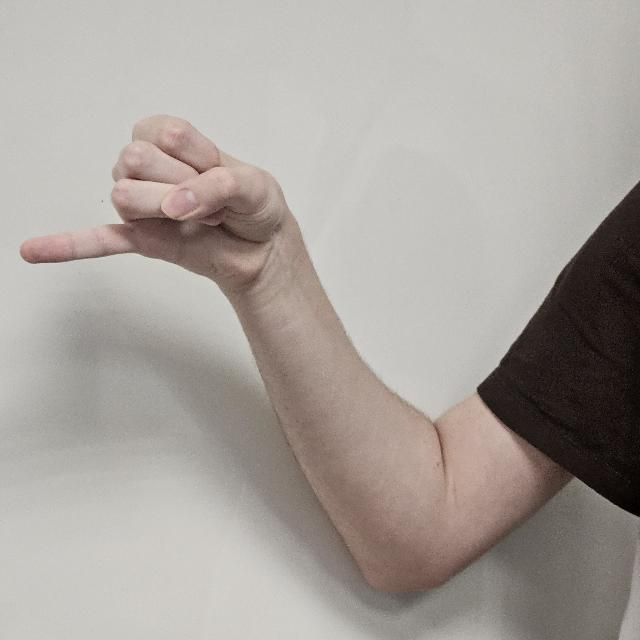Esquerda: (15, 104, 308, 310)
